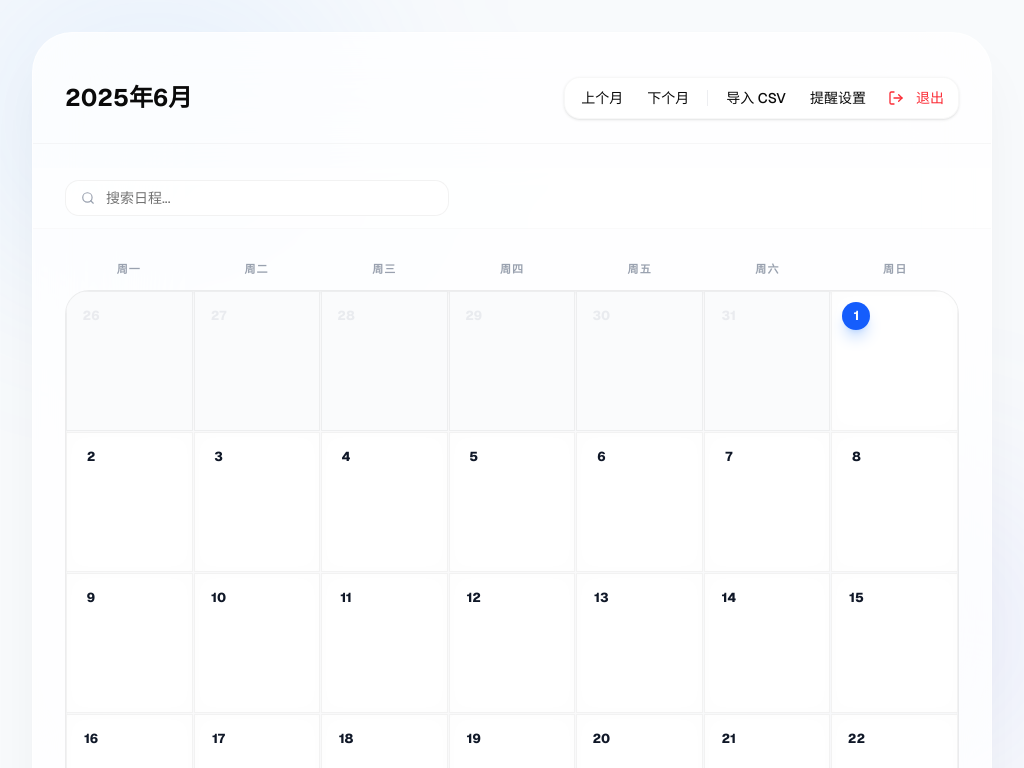
CalendarPage › opens new event dialog with clicked date when cell is empty
Click the element with test id "calendar-day-2025-06-10" at (257,642), box [194,572,320,712]
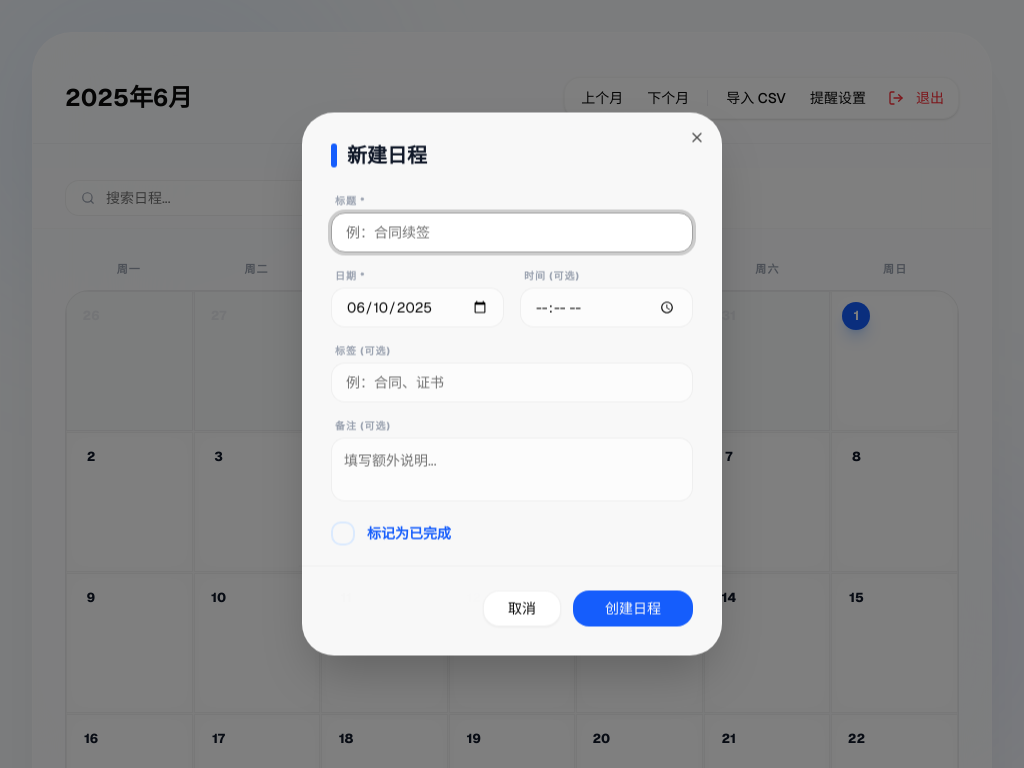
Expected: the heading "新建日程" is shown, [331,142,427,168]
Expected: the date field labelled "日期 *" holds "2025-06-10", [331,288,504,328]
